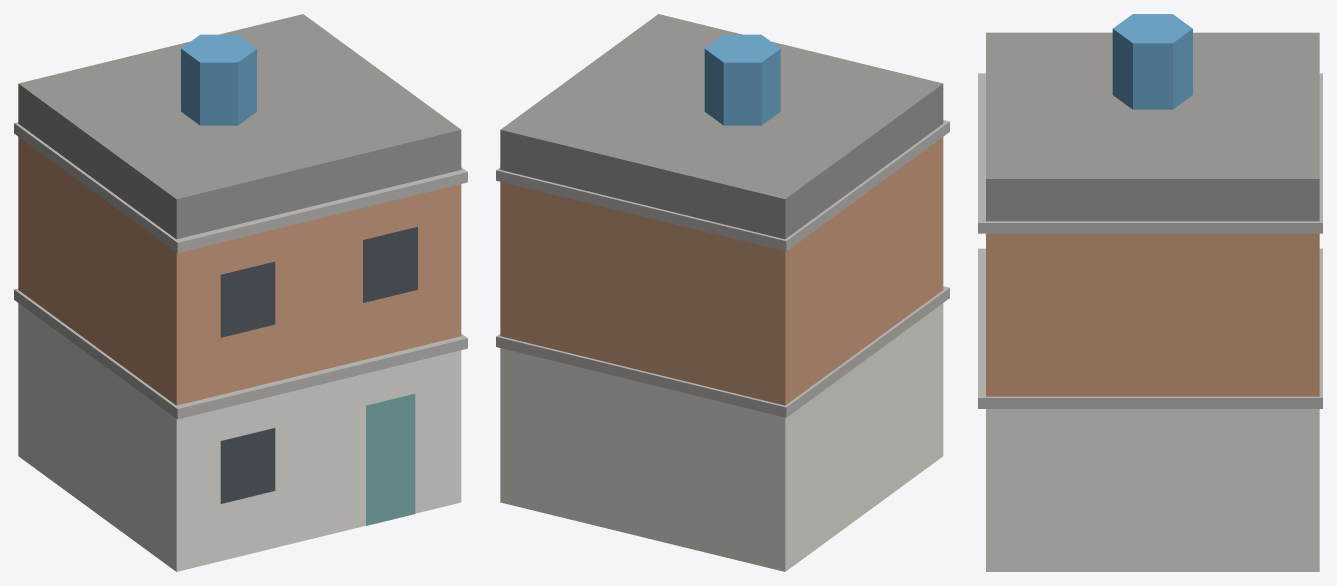
3 renders of one model, left to right at view 1: azimuth 30°, elevation 25°; view 2: azimuth 150°, elevation 25°; view 3: azimuth 270°, elevation 25°, orthographic. The views are drawn at different scales.
Parts seen in each view (by area): view 1: fv_h06.lod1; view 2: fv_h06.lod1; view 3: fv_h06.lod1.
Part boxes in pixels (<box>): fv_h06.lod1: <box>14,14,467,571</box>; fv_h06.lod1: <box>496,14,949,571</box>; fv_h06.lod1: <box>978,14,1322,571</box>.
Bounding box in the file's own units: 5.3 × 7.6 × 5.17.
